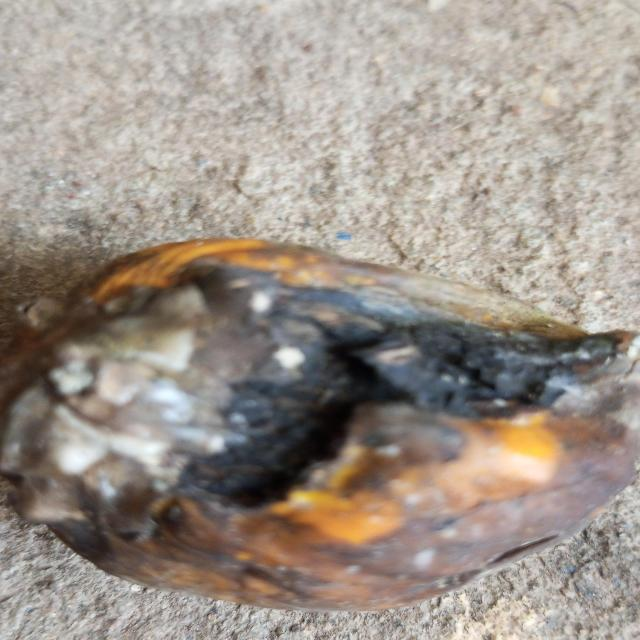damaged: (0, 238, 638, 610)
